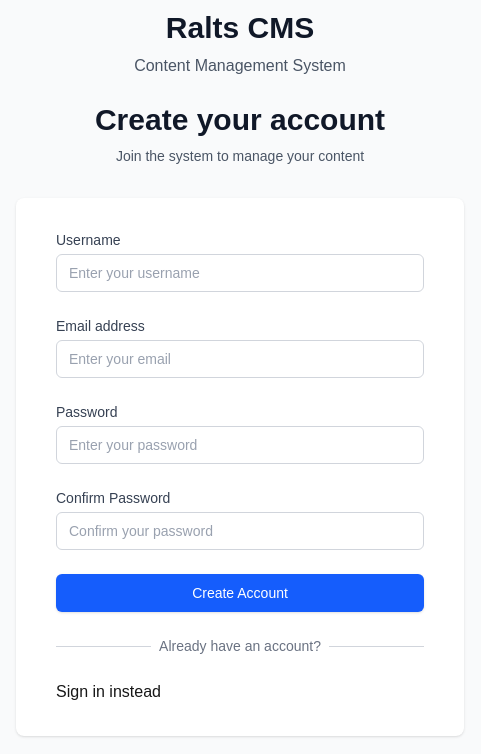
Test case: RegisterPage › should successfully register a new user
# Fill out the form
In the field labelled "Username": (240, 273) [56,254,424,292], type "johndoe"
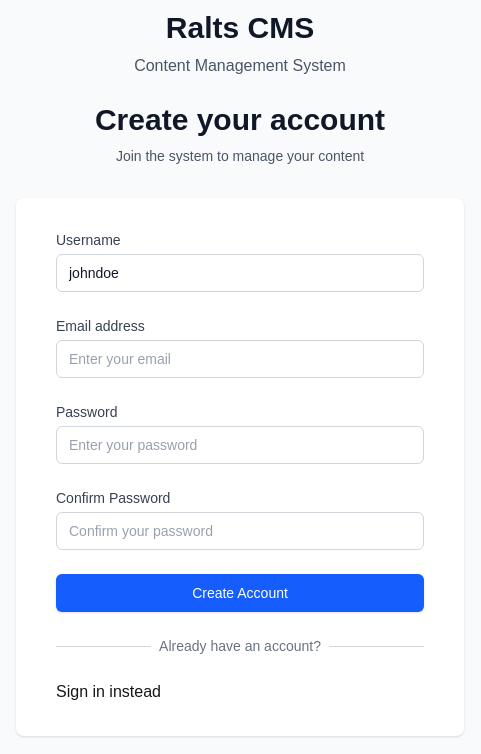
In the field labelled "Email address": (240, 359) [56,340,424,378], type "john@example.com"
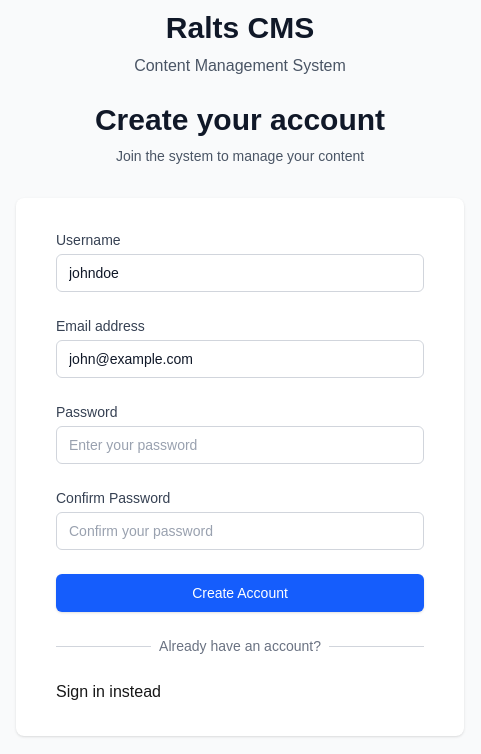
In the password field labelled "Password": (240, 445) [56,426,424,464], type "password123"
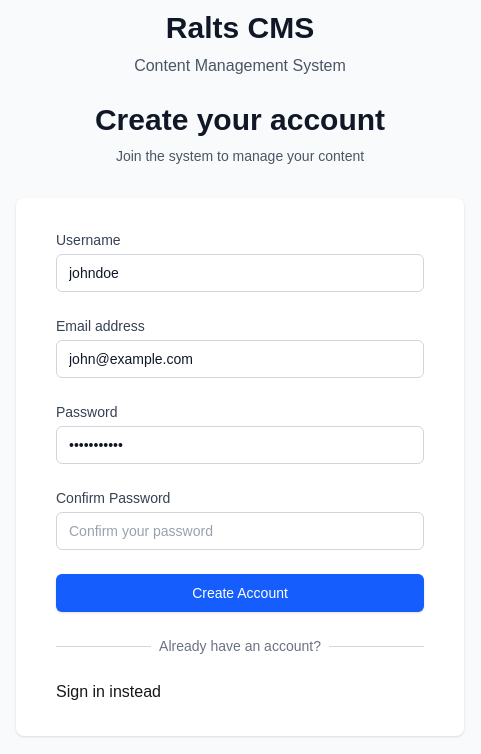
In the password field labelled "Confirm Password": (240, 531) [56,512,424,550], type "password123"
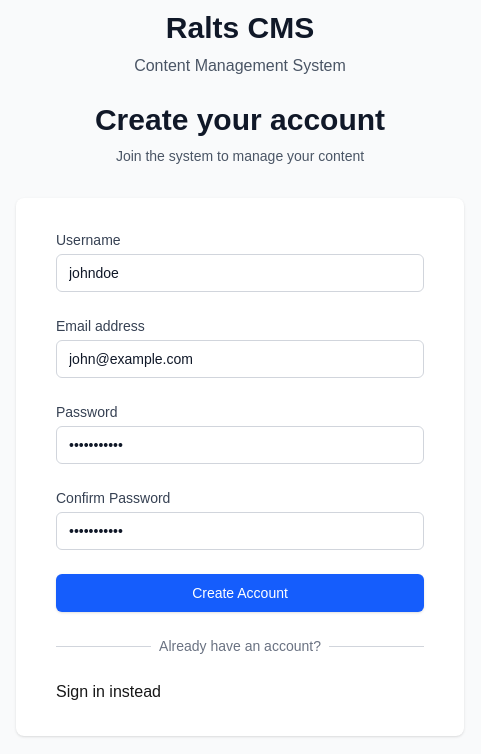
# Submit the form
Click the button "Create Account": (240, 593) [56,574,424,612]
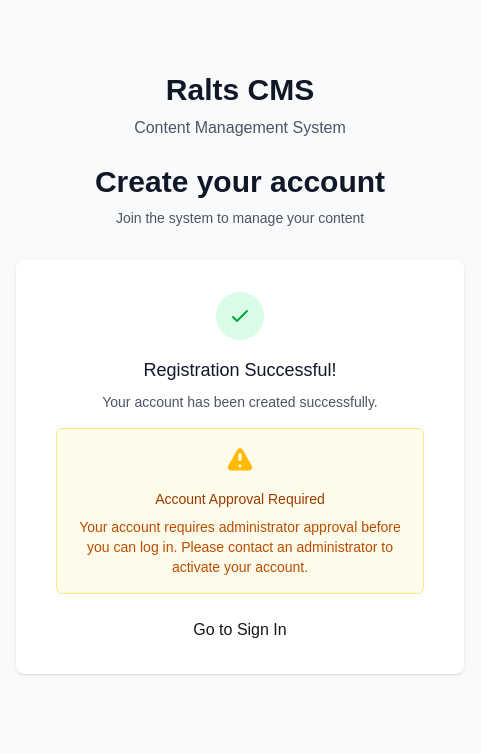
Expected: the heading "Registration Successful!" is shown, [144,360,337,380]
Expected: the text "Your account has been created successfully." is shown, [102,394,378,410]
Expected: the heading "Account Approval Required" is shown, [155,491,325,507]
